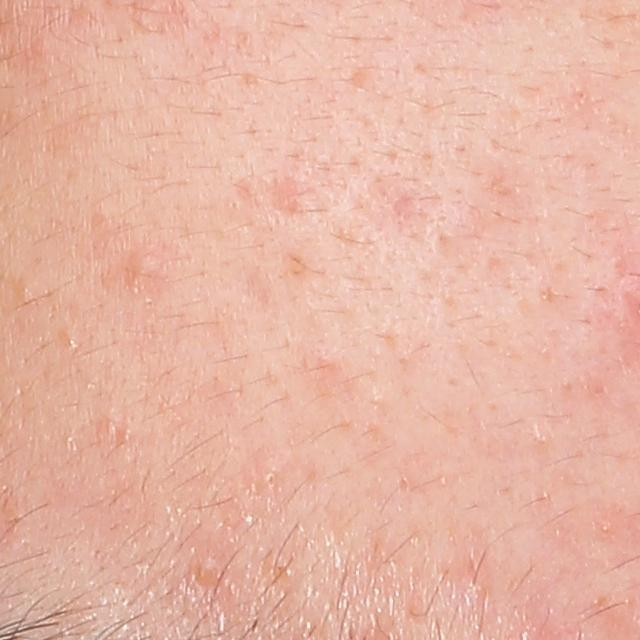comedo: (188, 551, 225, 584), (132, 252, 159, 279), (63, 331, 79, 351)
